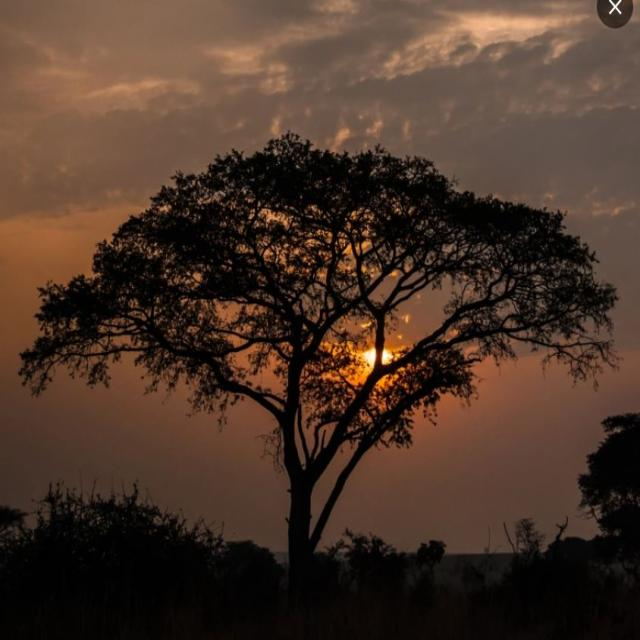Acacia: (23, 118, 589, 524)
